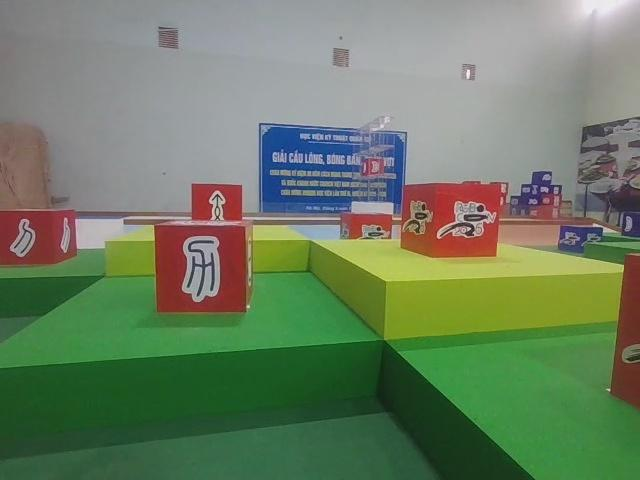R1: (399, 179, 503, 260)
R2 Fake: (151, 217, 256, 315)
R2 Real: (0, 207, 80, 268), (188, 181, 245, 227)
